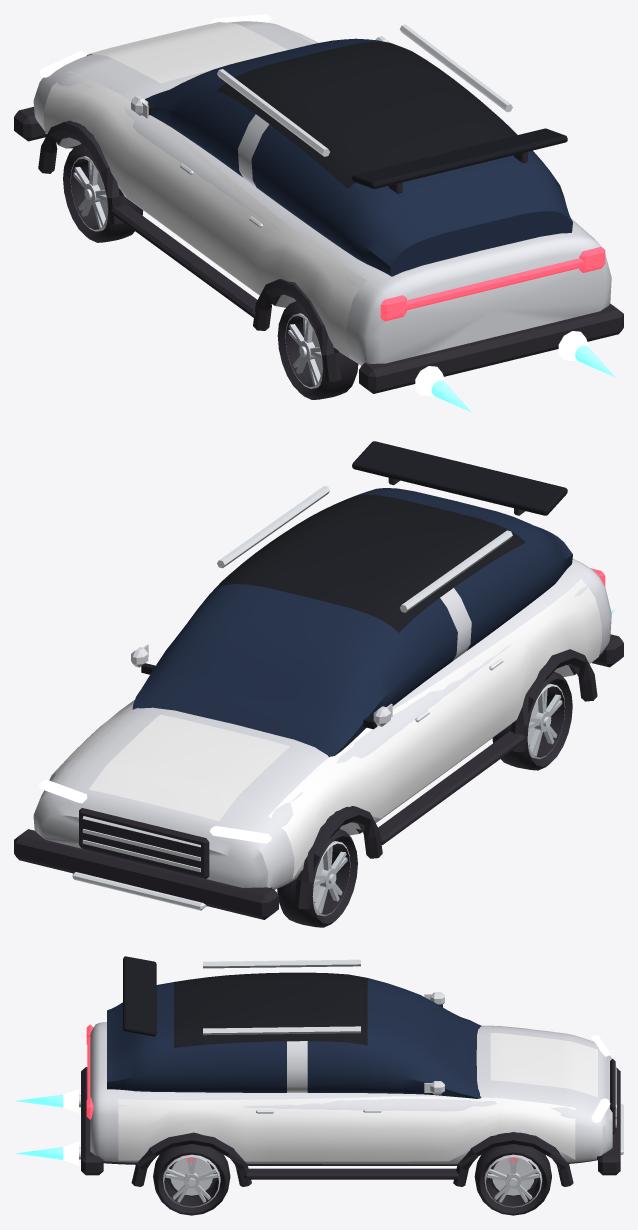
Rendered from car_suv.glb.
The picture shows the model from 3 angles, top to bottom: view 1: azimuth 30°, elevation 25°; view 2: azimuth 150°, elevation 25°; view 3: azimuth 270°, elevation 25°; orthographic projection. The views are drawn at different scales.
Visible parts, largest first — view 1: Body, Vinyl, Spoiler, WheelRL, WheelFL, NitroFlame; view 2: Body, Vinyl, Spoiler, WheelFL, WheelRL; view 3: Body, Vinyl, WheelRR, WheelFR, Spoiler, NitroFlame.
Boxes of the visible parts, x1,y1,x2,y2 form: Body: (14, 14, 623, 393); Vinyl: (43, 22, 594, 357); Spoiler: (352, 128, 567, 193); WheelRL: (277, 301, 358, 399); WheelFL: (63, 144, 143, 242); NitroFlame: (415, 331, 615, 412); Body: (14, 486, 623, 919); Vinyl: (49, 579, 601, 879); Spoiler: (352, 441, 567, 515); WheelFL: (277, 829, 357, 927); WheelRL: (492, 671, 572, 770); Body: (79, 959, 623, 1186); Vinyl: (118, 1025, 597, 1161); WheelRR: (153, 1144, 230, 1215); WheelFR: (474, 1144, 551, 1215); Spoiler: (123, 956, 156, 1036); NitroFlame: (14, 1089, 78, 1165).
Size of the model in its own units: 2.1 by 1.77 by 5.4.
